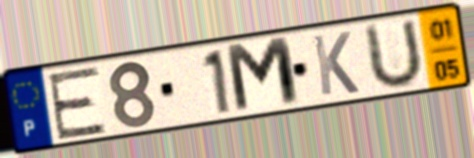1: (199, 46, 234, 117)
8: (106, 59, 158, 130)
E: (44, 63, 109, 142)
K: (309, 29, 362, 98)
M: (221, 33, 304, 117)
U: (363, 15, 426, 93)
